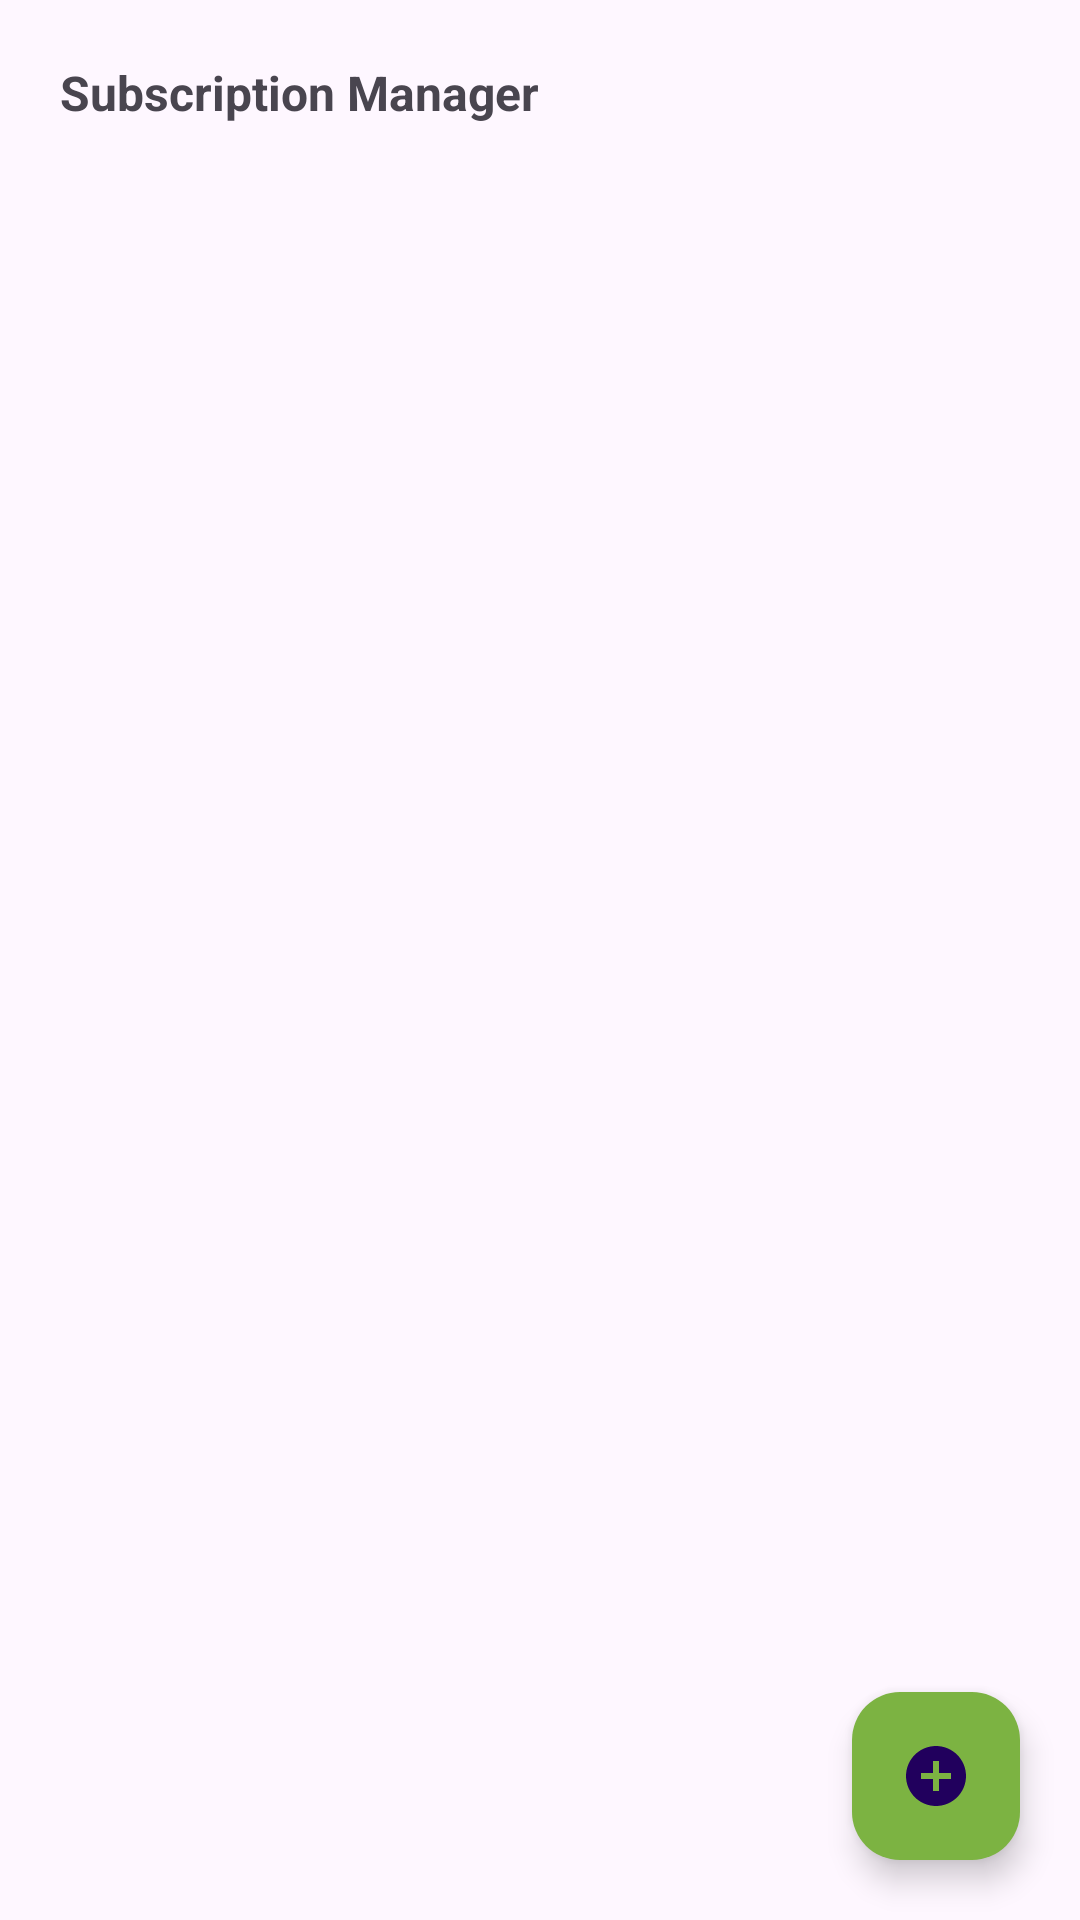

Named icons in this screenshot (1080x1920) and their centers, [x,y]:
add Sub: [936,1776]
